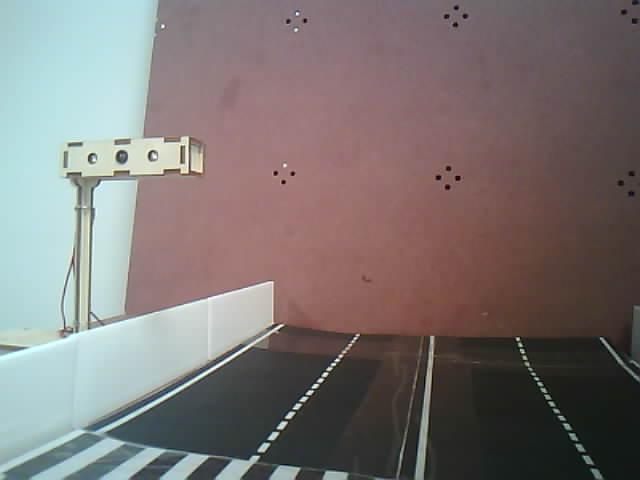crosswalk: (0, 392, 410, 480)
no: (43, 121, 223, 349)
